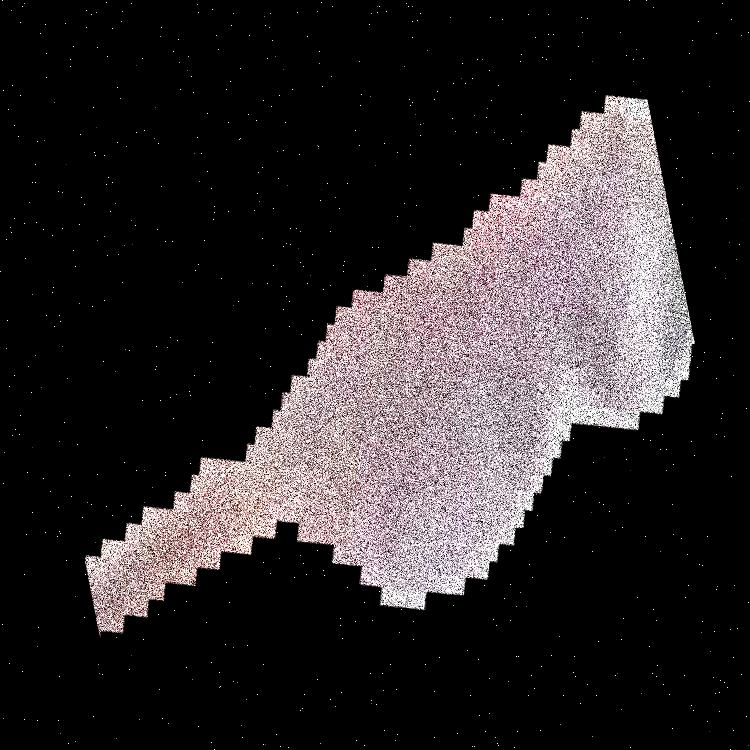Oculos: (628, 0, 749, 749)
